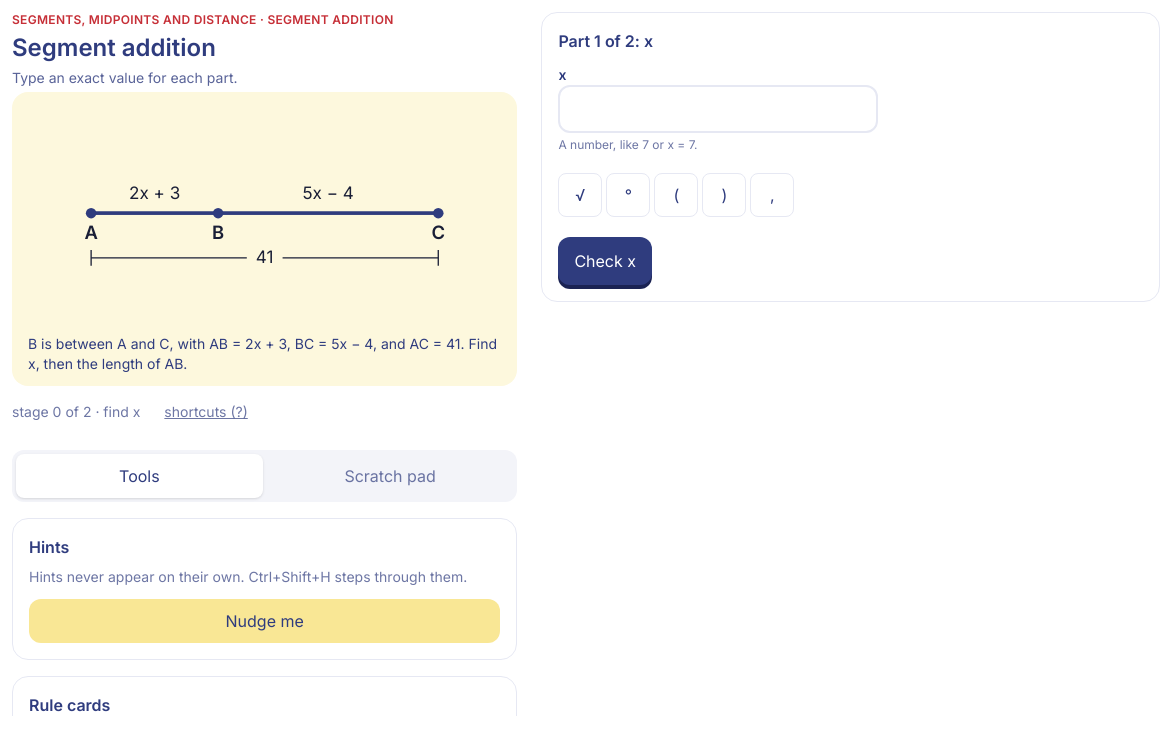
Test case: GeometryFlow geoSegments/gs.addition › an unreadable answer records nothing
The image size is (1164, 732).
Click the button "Check x" at (605, 261), box [558,237,652,285]
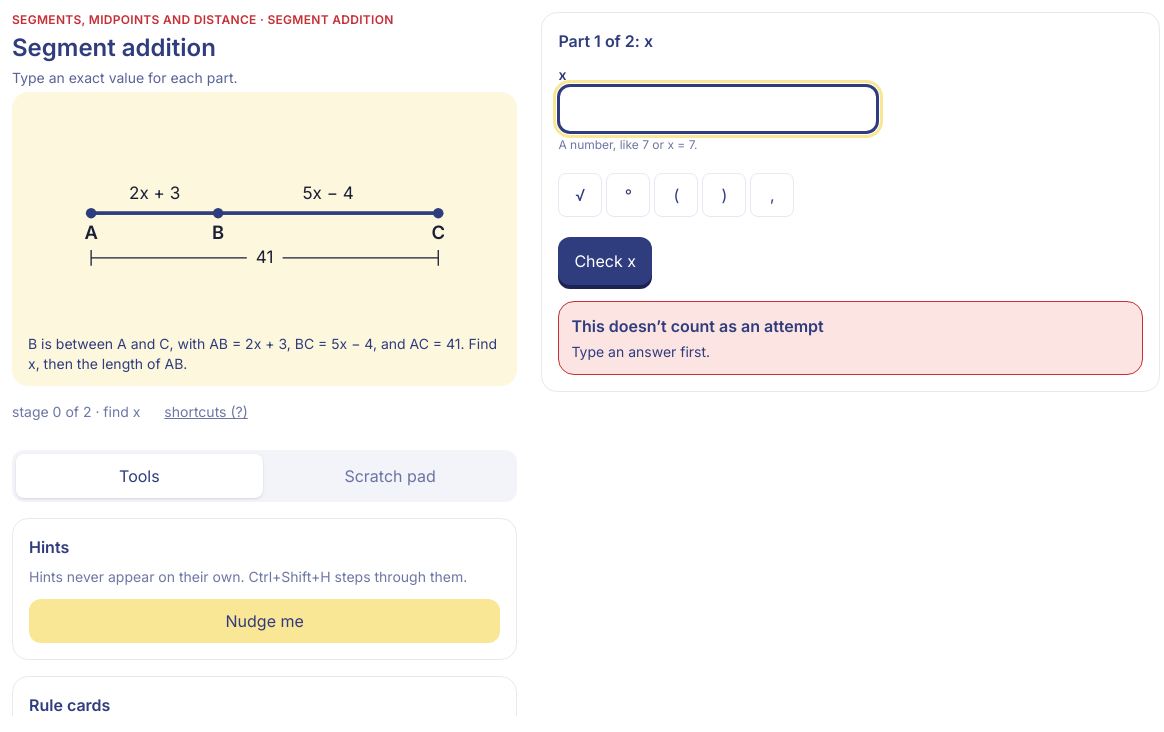
expect the message shows "This doesn’t count as an attempt": met, box [571,316,824,336]
Type "???" into the field labelled "x" at (718, 109), box [558,85,878,133]
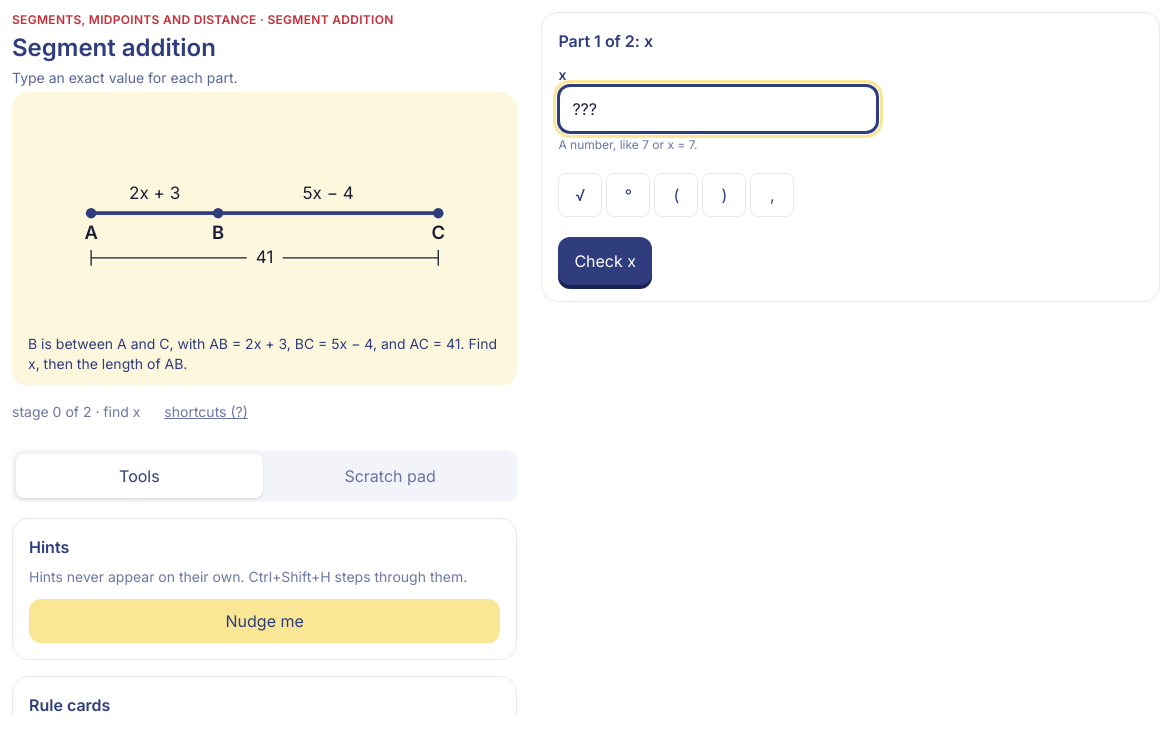
expect the message "This doesn’t count as an attempt Type an answer first." is gone: met
Click the button "Check x" at (605, 261), box [558,237,652,285]
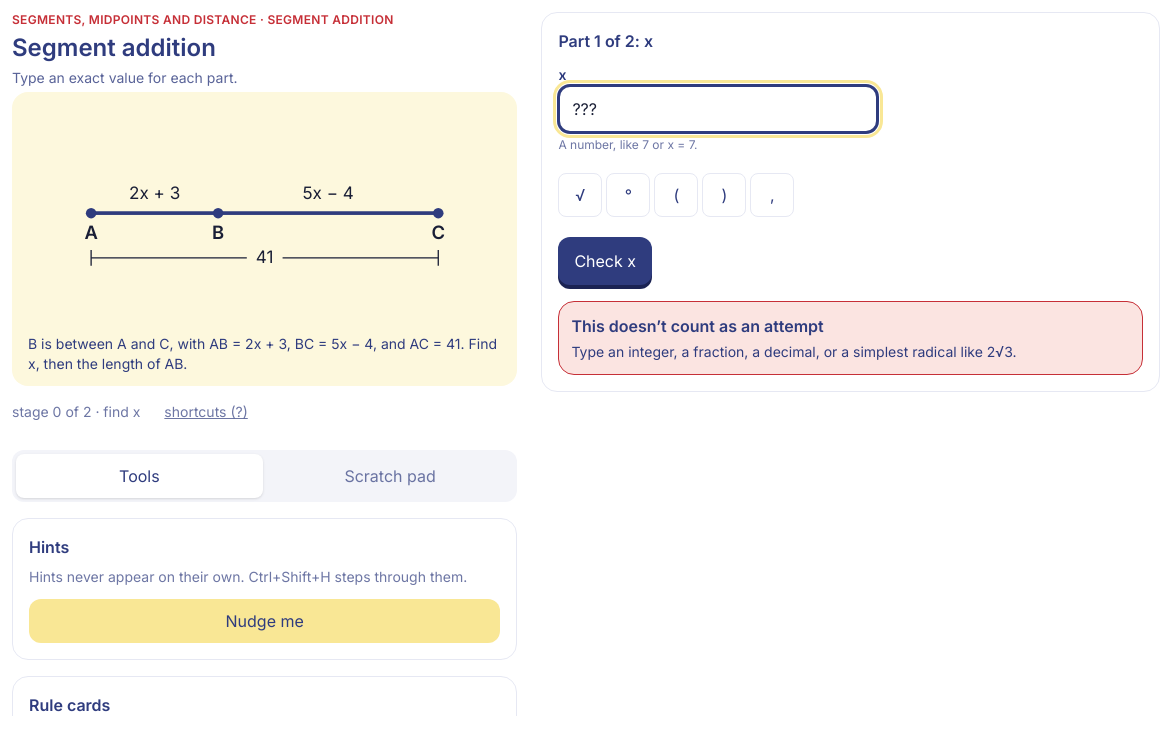
expect the message shows "This doesn’t count as an attempt": met, box [571,316,824,336]
Replace the text in the field labelled "x" with "√45" at (718, 109), box [558,85,878,133]
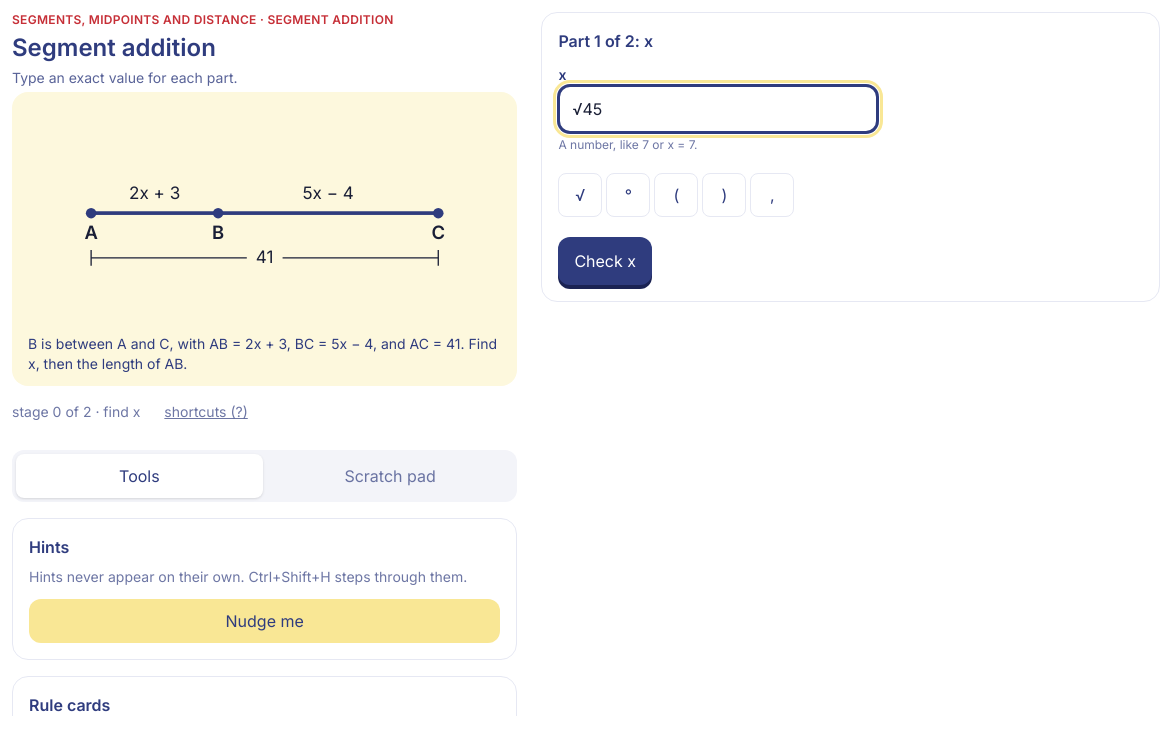
Click the button "Check x" at (605, 261), box [558,237,652,285]
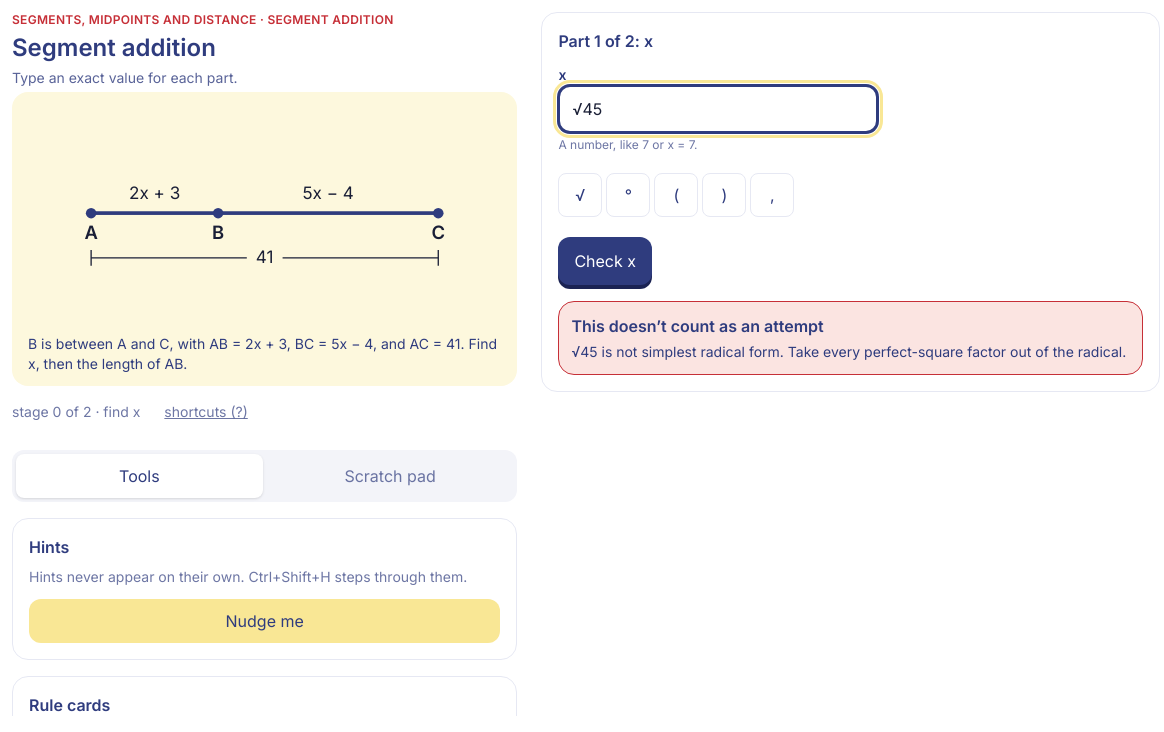
expect the message shows "This doesn’t count as an attempt": met, box [571,316,824,336]
